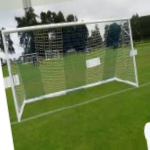goals: (1, 17, 143, 124)
